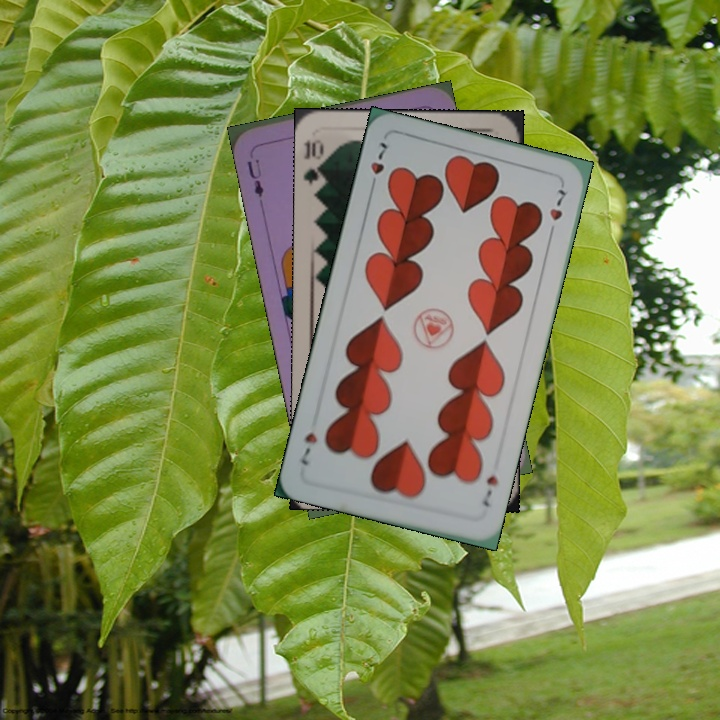EU: (242, 154, 267, 200)
G10: (301, 136, 328, 193)
H7: (366, 138, 390, 194), (477, 471, 502, 510)
